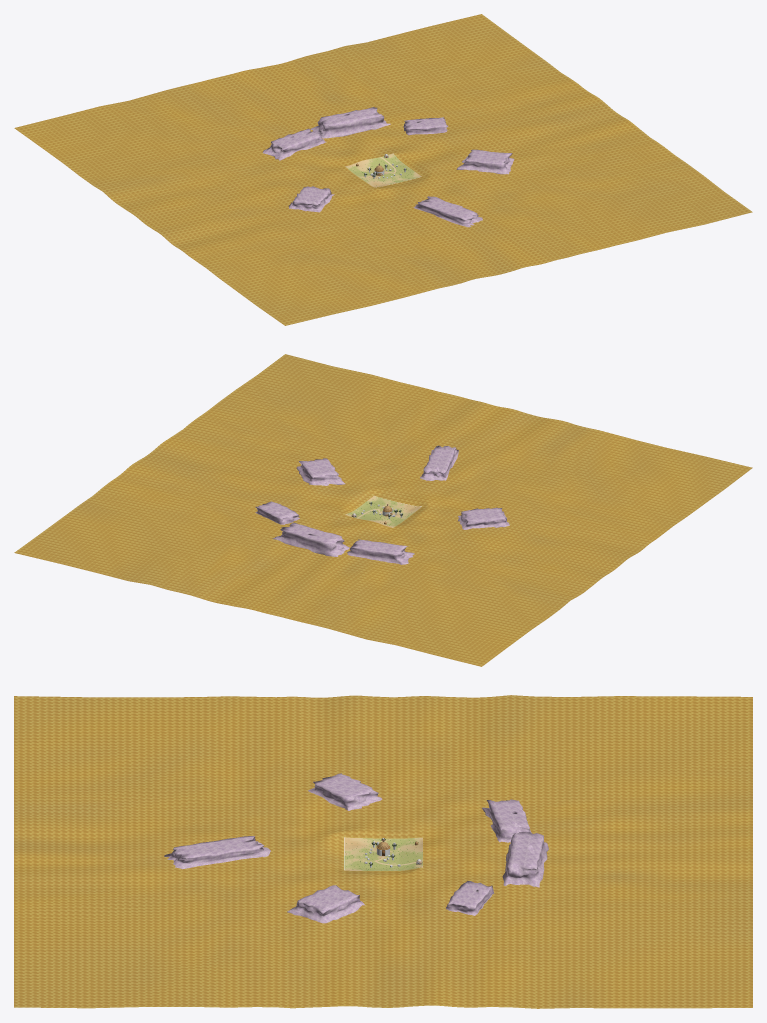
The model's file is olive-hermitage.glb.
The picture shows the model from 3 angles, top to bottom: view 1: azimuth 30°, elevation 25°; view 2: azimuth 150°, elevation 25°; view 3: azimuth 270°, elevation 25°; orthographic projection. The views are drawn at different scales.
Parts seen in each view (by area): view 1: ground_far, cliffs, ground; view 2: ground_far, cliffs, ground; view 3: ground_far, cliffs, ground.
Boxes of the visible parts, x1,y1,x2,y2 form: ground_far: (14,14,752,325); cliffs: (262,107,514,227); ground: (345,153,421,187); ground_far: (14,354,752,666); cliffs: (255,445,509,564); ground: (345,496,421,527); ground_far: (14,695,752,1008); cliffs: (164,773,548,923); ground: (344,837,422,870).
Bounding box in the file's own units: 934 × 28.19 × 938.
Materials: 19 (13 with a texture image).
